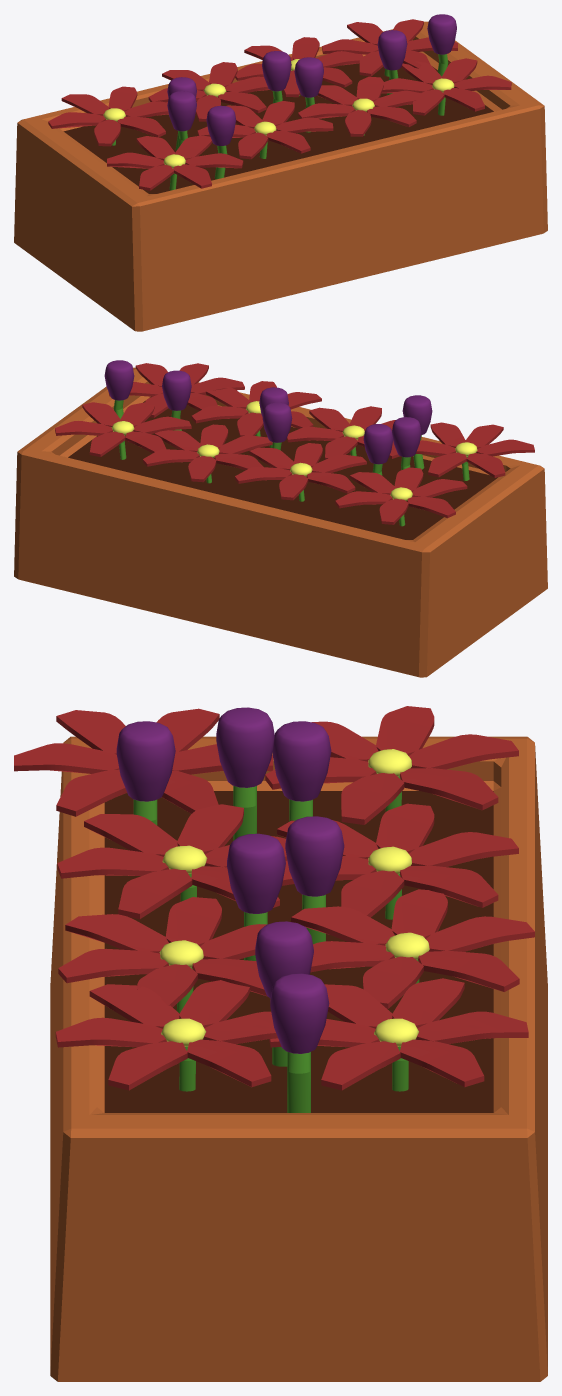
Rendered from flower_bed_rect_02.glb.
3 views of the same model, one above another, from view 1: azimuth 30°, elevation 25°; view 2: azimuth 150°, elevation 25°; view 3: azimuth 270°, elevation 25° (orthographic). The views are drawn at different scales.
Visible parts, largest first — view 1: Cube.001, Circle.015, Circle.016, Circle.009, Circle.012, Circle.013, Circle.014, Circle.010, Circle.011, Cylinder.007, Cylinder.019, Cylinder.005 (+4 smaller); view 2: Cube.001, Circle.016, Circle.014, Circle.010, Circle.011, Circle.015, Circle.012, Circle.009, Circle.013, Cylinder.017, Cylinder.019, Cylinder.021 (+4 smaller); view 3: Cube.001, Circle.011, Circle.009, Circle.010, Circle.016, Circle.012, Circle.014, Circle.013, Circle.015, Cylinder.003, Cylinder.017, Cylinder (+13 smaller).
Boxes of the visible parts, box(x1,y1,x2,y2) form: Cube.001: box(14, 21, 547, 331); Circle.015: box(107, 135, 243, 190); Circle.016: box(48, 86, 168, 146); Circle.009: box(382, 58, 511, 115); Circle.012: box(298, 76, 421, 136); Circle.013: box(197, 101, 333, 159); Circle.014: box(148, 62, 269, 121); Circle.010: box(322, 19, 457, 76); Circle.011: box(235, 37, 363, 97); Cylinder.007: box(294, 57, 323, 97); Cylinder.019: box(377, 30, 407, 70); Cylinder.005: box(167, 91, 196, 131); Cube.001: box(14, 367, 547, 677); Circle.016: box(335, 467, 467, 524); Circle.014: box(235, 443, 366, 500); Circle.010: box(55, 402, 191, 456); Circle.011: box(143, 424, 272, 482); Circle.015: box(415, 422, 534, 477); Circle.012: box(191, 381, 321, 436); Circle.009: box(108, 363, 244, 417); Circle.013: box(286, 406, 400, 459); Cylinder.017: box(262, 402, 292, 442); Cylinder.019: box(162, 370, 191, 410); Cylinder.021: box(104, 360, 134, 400); Cube.001: box(50, 736, 547, 1381); Circle.011: box(291, 889, 534, 1008); Circle.009: box(55, 980, 277, 1090); Circle.010: box(269, 978, 528, 1090); Circle.016: box(265, 706, 518, 824); Circle.012: box(58, 897, 266, 1007); Circle.014: box(277, 803, 518, 917); Circle.013: box(57, 804, 287, 919); Circle.015: box(14, 708, 272, 816); Cylinder.003: box(272, 721, 331, 801); Cylinder.017: box(285, 816, 344, 896); Cylinder: box(116, 721, 175, 801).
Bounding box in the file's own units: 4.86 × 2.04 × 2.73.
